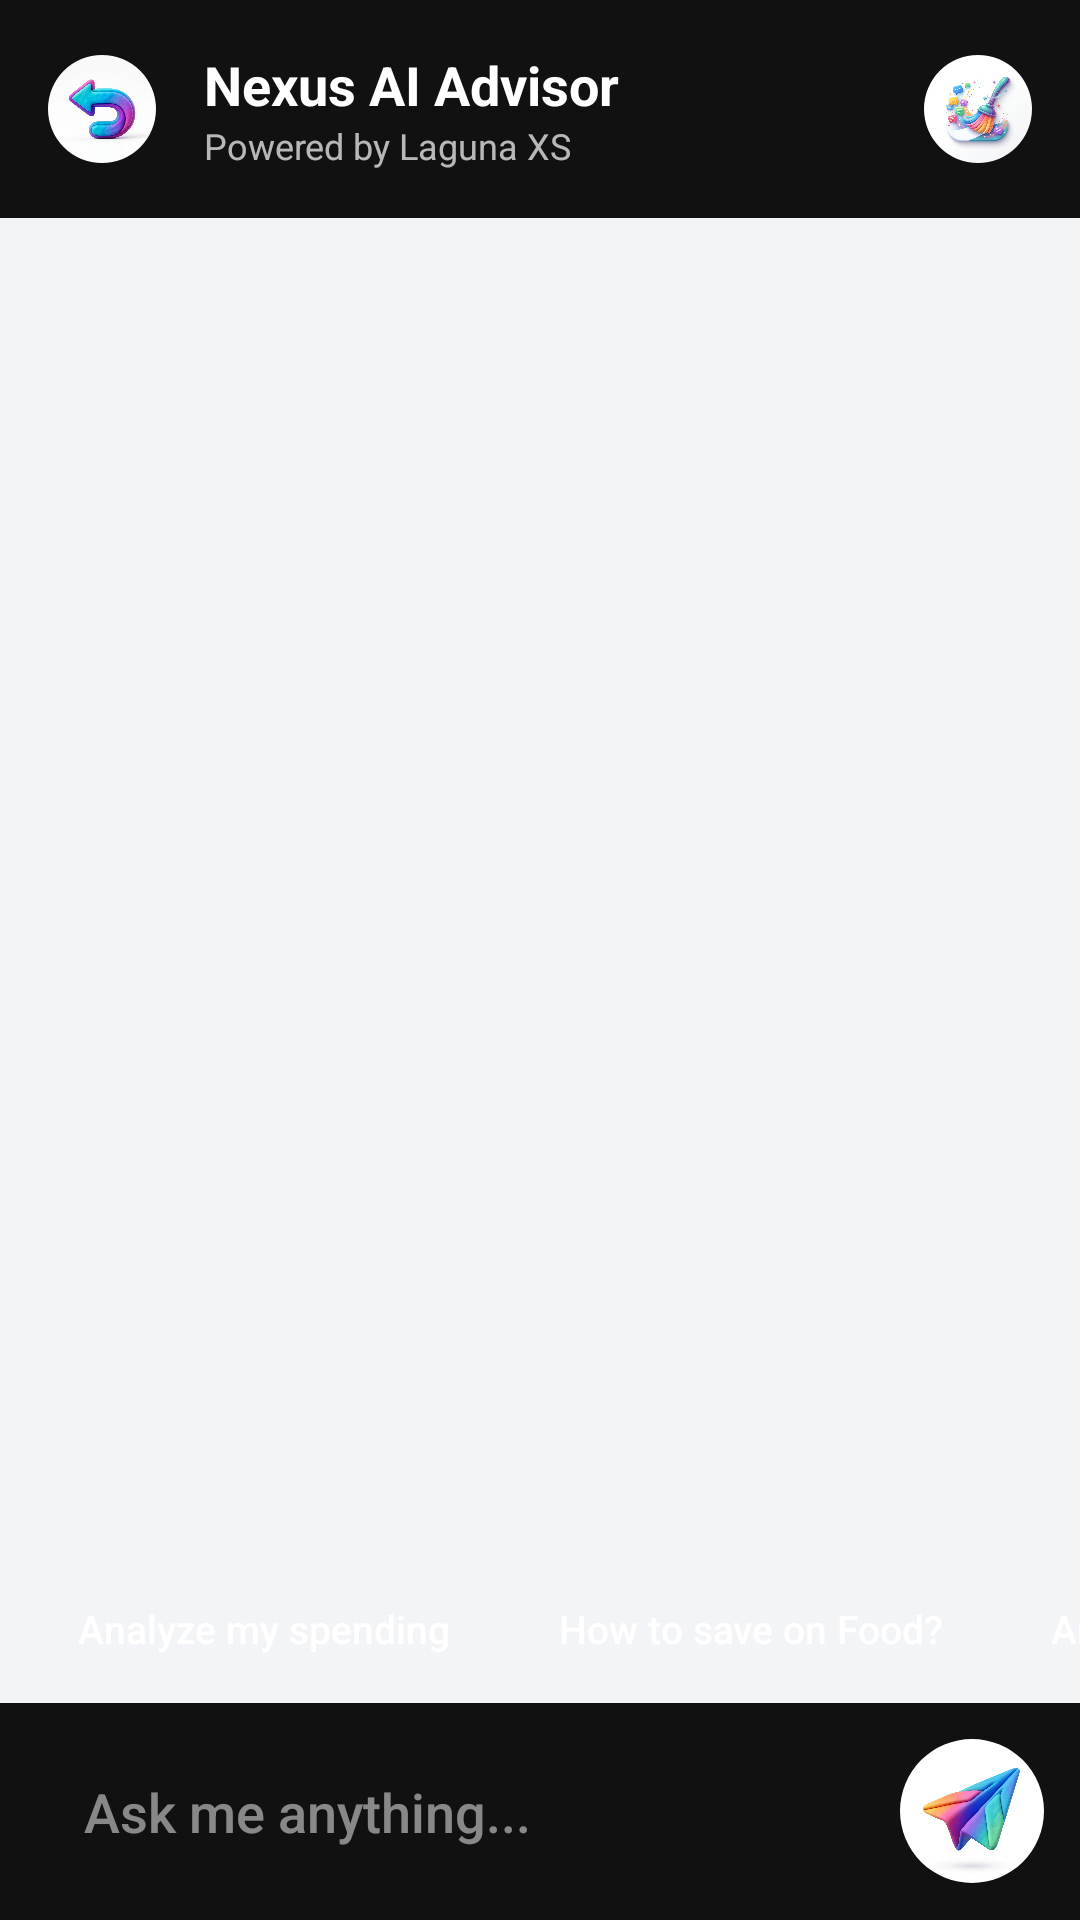

Point at icon controls on the screen. Image size 1080px x 1920px, points as point (x, y).
colorful back: point (102, 109)
colorful clear: point (978, 109)
colorful send: point (972, 1811)
